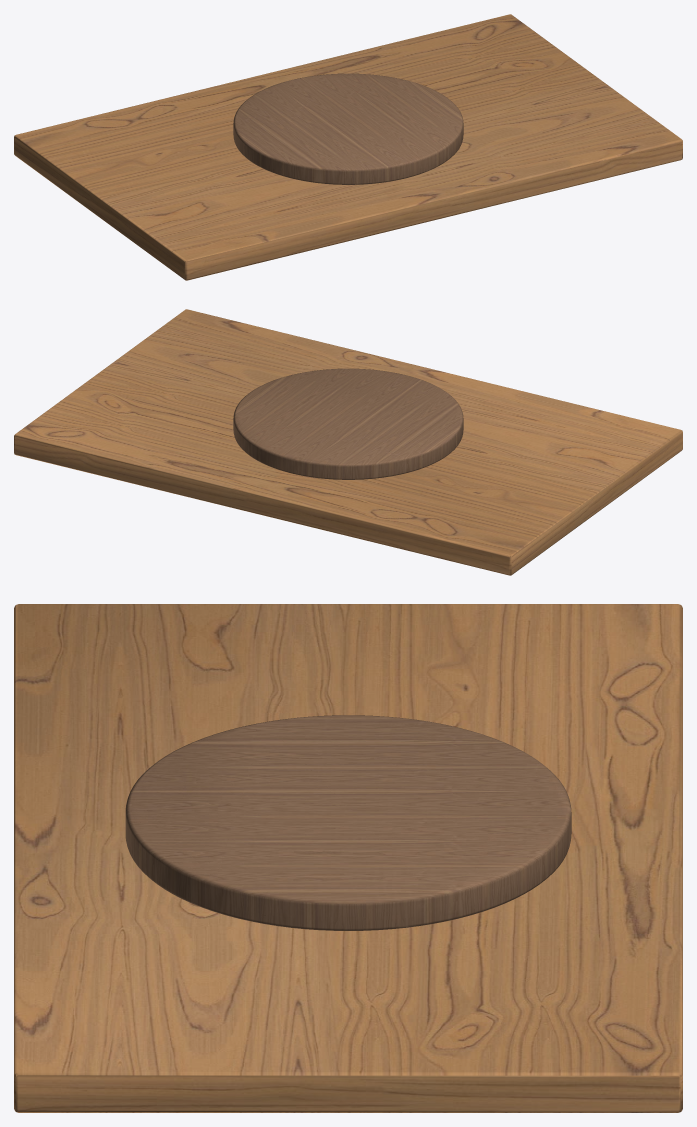
The model's file is bench.glb.
3 views of the same model, one above another, from view 1: azimuth 30°, elevation 25°; view 2: azimuth 150°, elevation 25°; view 3: azimuth 270°, elevation 25° (orthographic). The views are drawn at different scales.
Visible parts, largest first — view 1: bench, turntable; view 2: bench, turntable; view 3: bench, turntable.
Part boxes in pixels (x1=…): bench: x1=14, y1=14, x2=682, y2=280; turntable: x1=233, y1=73, x2=463, y2=184; bench: x1=14, y1=309, x2=682, y2=575; turntable: x1=233, y1=368, x2=463, y2=479; bench: x1=14, y1=604, x2=682, y2=1112; turntable: x1=125, y1=715, x2=571, y2=930.
Bounding box in the file's own units: 1 × 0.07 × 0.6.
2 materials, 2 textured.
